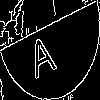A: (25, 25, 58, 79)
